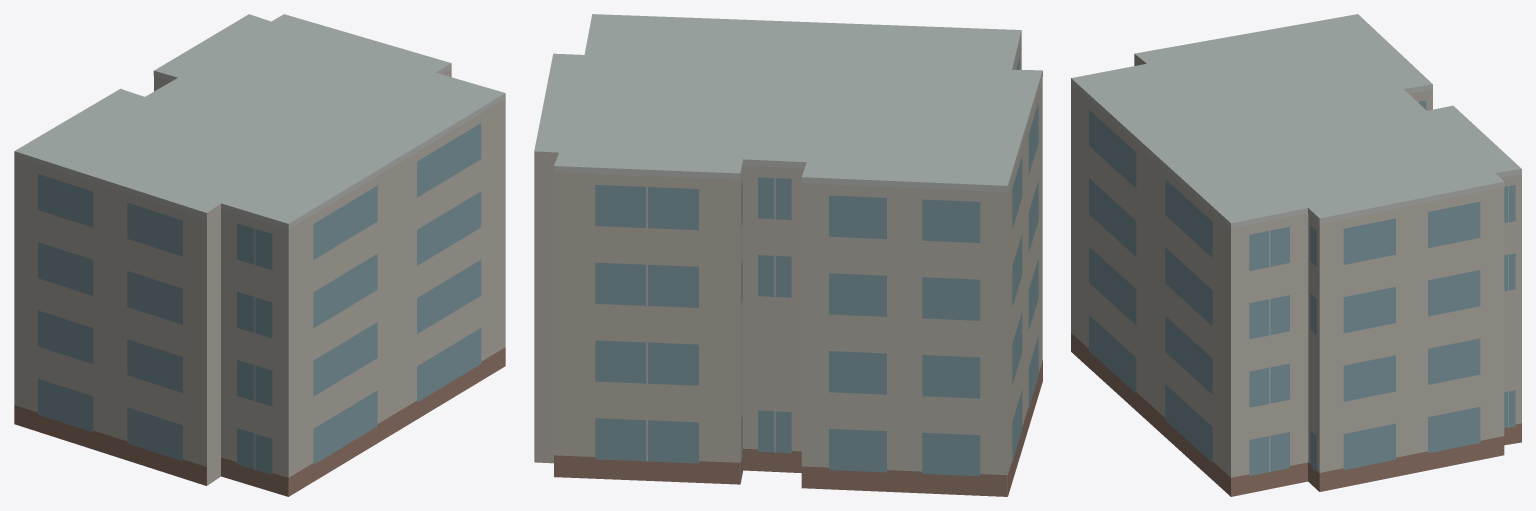
File: survey-upis-32730163.glb
3 views of the same model, side by side, from view 1: azimuth 30°, elevation 25°; view 2: azimuth 150°, elevation 25°; view 3: azimuth 270°, elevation 25° (orthographic). The views are drawn at different scales.
Visible parts, largest first — view 1: survey-upis-32730163.tmp; view 2: survey-upis-32730163.tmp; view 3: survey-upis-32730163.tmp.
Part boxes in pixels (x1=…): survey-upis-32730163.tmp: x1=14, y1=14, x2=505, y2=496; survey-upis-32730163.tmp: x1=534, y1=14, x2=1042, y2=496; survey-upis-32730163.tmp: x1=1071, y1=14, x2=1521, y2=496.
Bounding box in the file's own units: 20.03 × 12.2 × 18.23.
